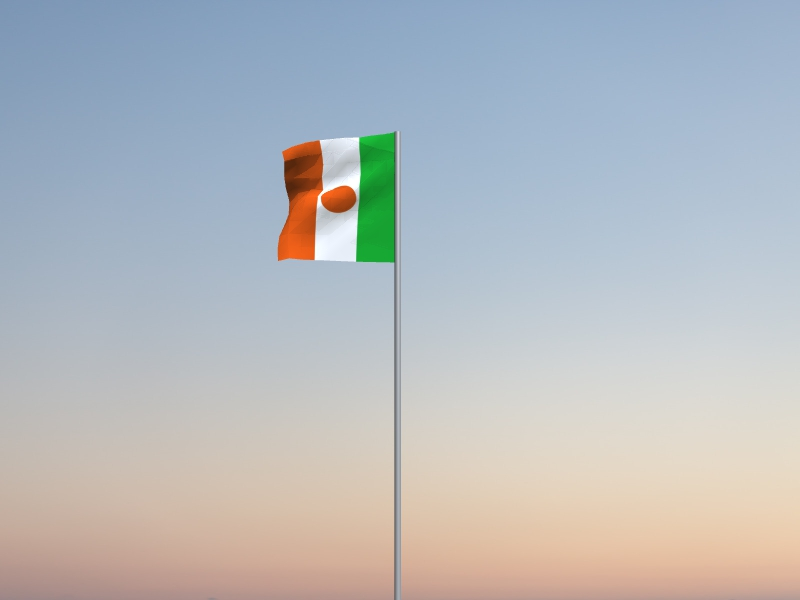ne: (278, 133, 395, 270)
